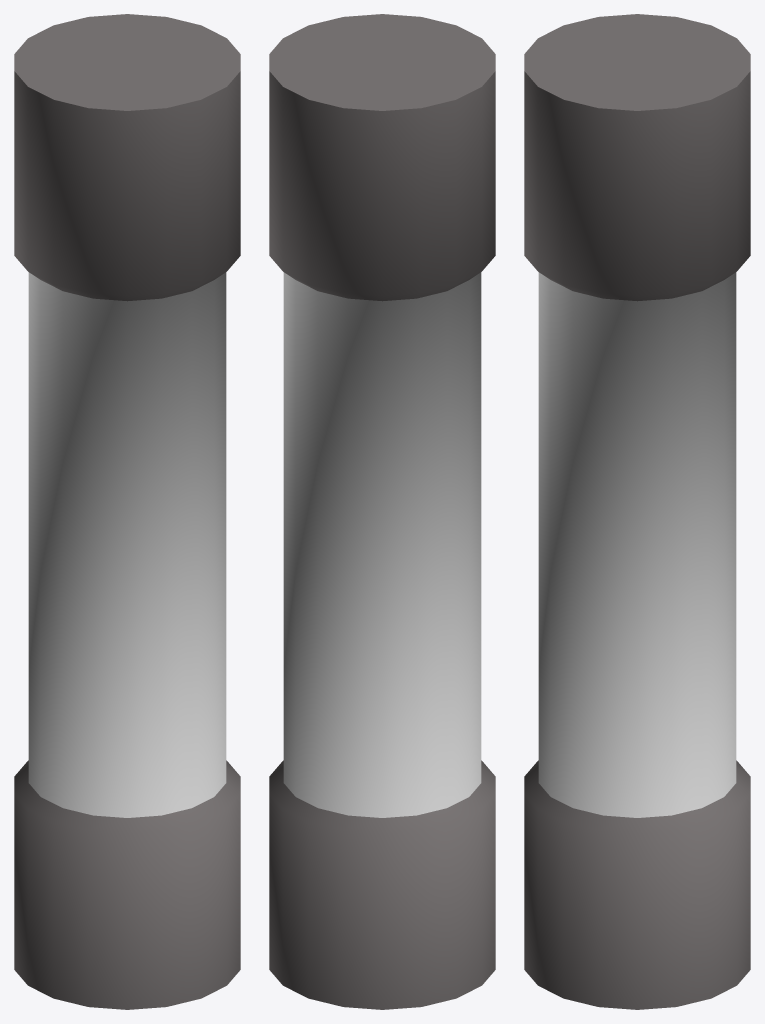
The model's file is fusivel.FBX.
3 renders of one model, left to right at view 1: azimuth 30°, elevation 25°; view 2: azimuth 150°, elevation 25°; view 3: azimuth 270°, elevation 25°, orthographic.
Parts seen in each view (by area): view 1: Cylinder001; view 2: Cylinder001; view 3: Cylinder001.
Boxes of the visible parts, x1,y1,x2,y2 form: Cylinder001: (14,14,240,1009); Cylinder001: (269,14,495,1009); Cylinder001: (524,14,750,1009).
Bounding box in the file's own units: 14.74 × 63.63 × 14.51.
